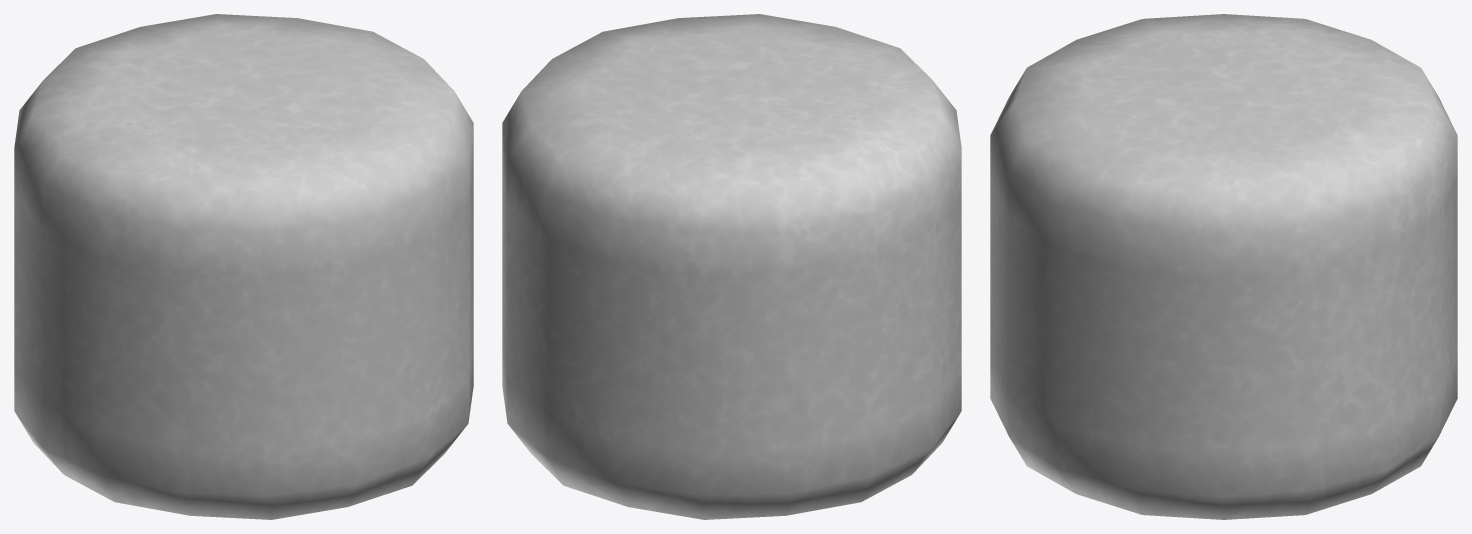
Rendered from Asset_001_Jumppad.fbx.
3 renders of one model, left to right at view 1: azimuth 30°, elevation 25°; view 2: azimuth 150°, elevation 25°; view 3: azimuth 270°, elevation 25°, orthographic.
Visible parts, largest first — view 1: JumpPad_Platform; view 2: JumpPad_Platform; view 3: JumpPad_Platform.
Boxes of the visible parts, left/top/right/bottom form: JumpPad_Platform: left=14, top=14, right=473, bottom=519; JumpPad_Platform: left=502, top=14, right=961, bottom=519; JumpPad_Platform: left=990, top=14, right=1457, bottom=519.
Size of the model in its own units: 5.39 by 4.48 by 5.39.
